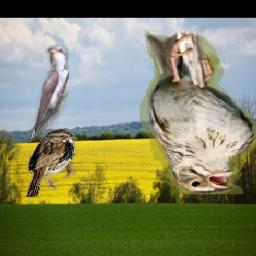Cuckoo: (30, 45, 70, 140)
Sparrow: (140, 30, 256, 195), (27, 128, 79, 198)
